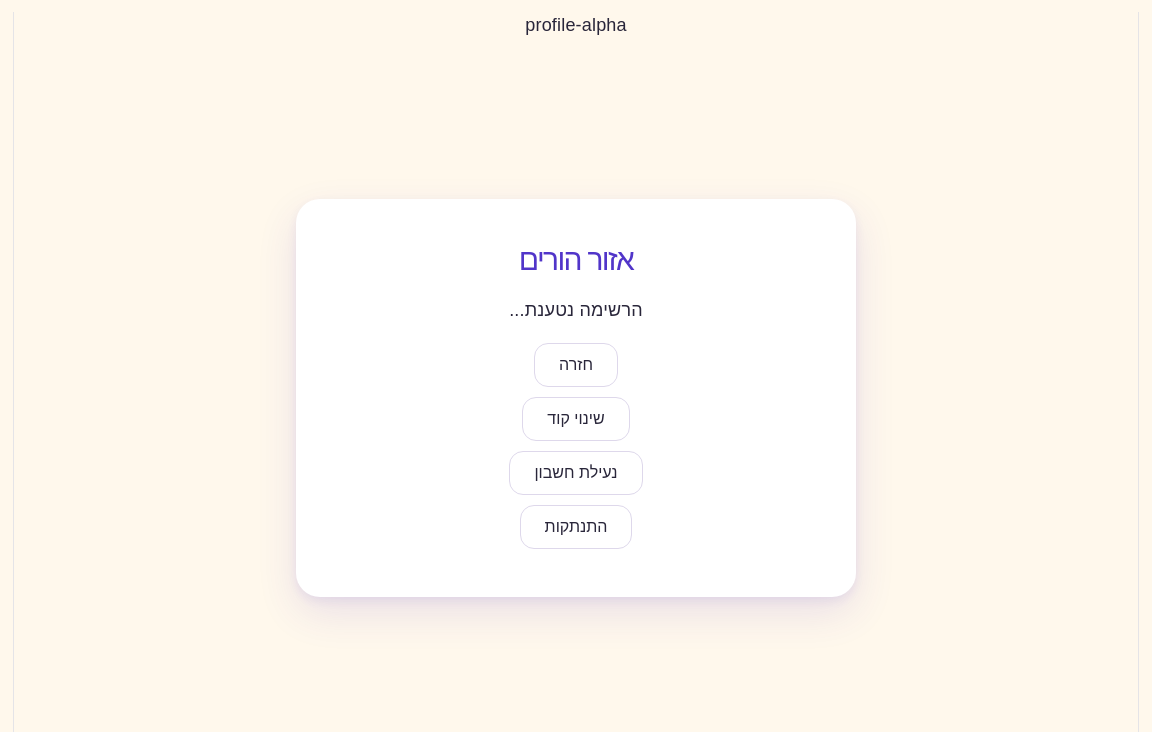
Test case: ParentZonePage — logout › disables the logout button and shows the logging-out label while the request is in flight
What coordinates should you click on to do the following:
click the button "התנתקות"
I would click on:
 (576, 527)
Its box is [520,505,632,549].
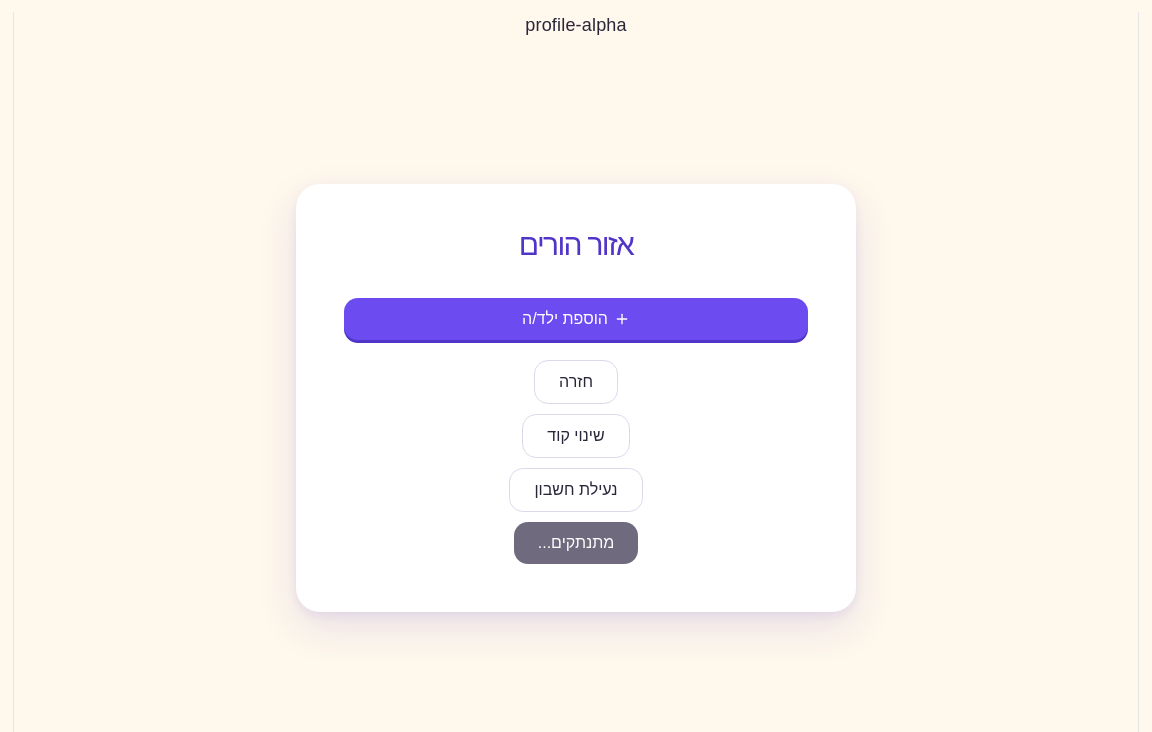
Check: the button "מתנתקים..." is disabled, box [514,522,638,564]
